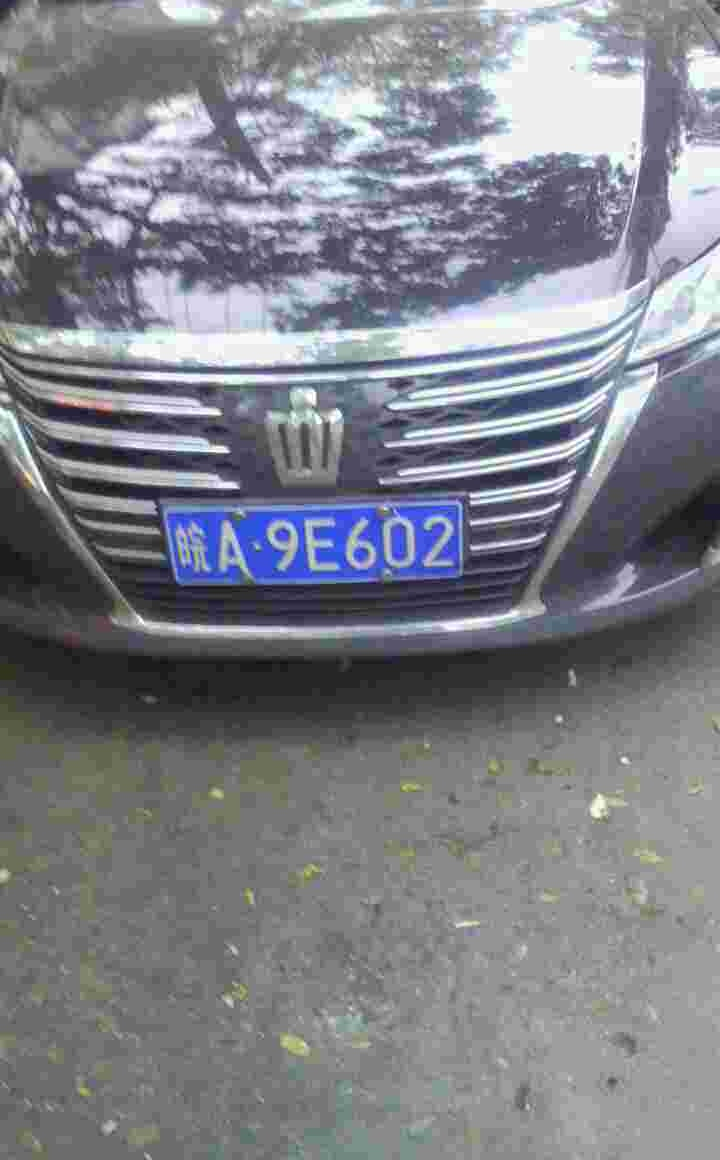license_plate: (168, 498, 467, 577)
